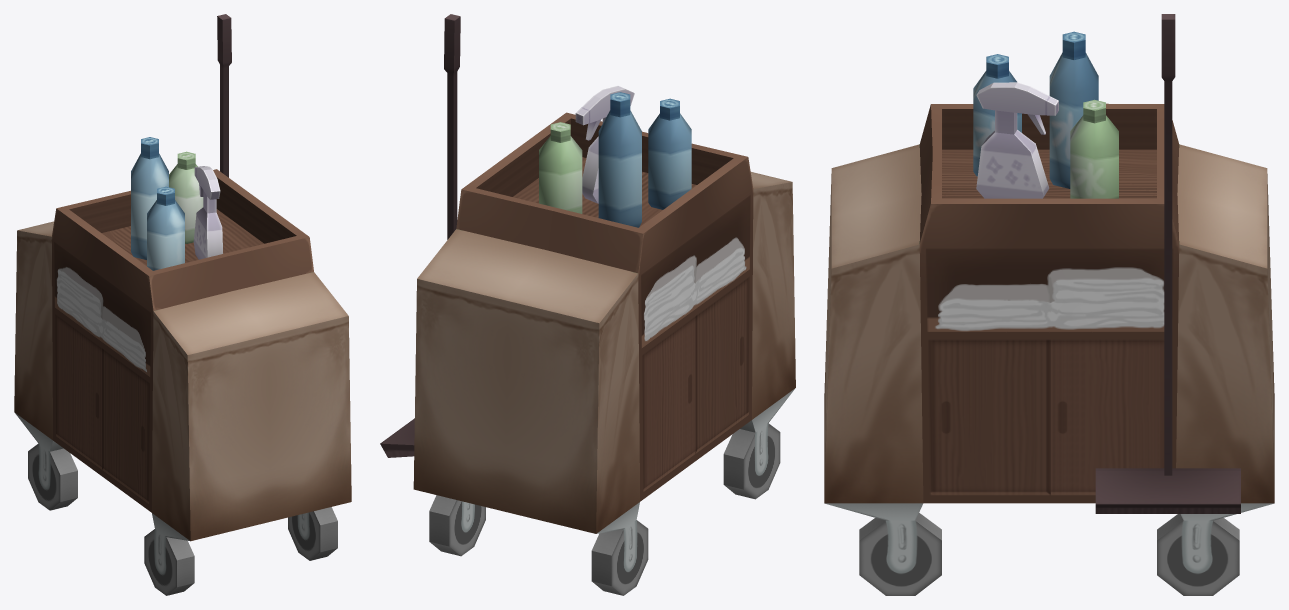
The model's file is corridor_object_cart.FBX.
3 renders of one model, left to right at view 1: azimuth 30°, elevation 25°; view 2: azimuth 150°, elevation 25°; view 3: azimuth 270°, elevation 25°, orthographic. The views are drawn at different scales.
Visible parts, largest first — view 1: Object001; view 2: Object001; view 3: Object001.
Part boxes in pixels (left/top/right/bottom): Object001: left=14, top=14, right=351, bottom=595; Object001: left=380, top=14, right=795, bottom=595; Object001: left=824, top=14, right=1274, bottom=595.
Size of the model in its own units: 282 by 603 by 422.
1 material, 1 textured.
